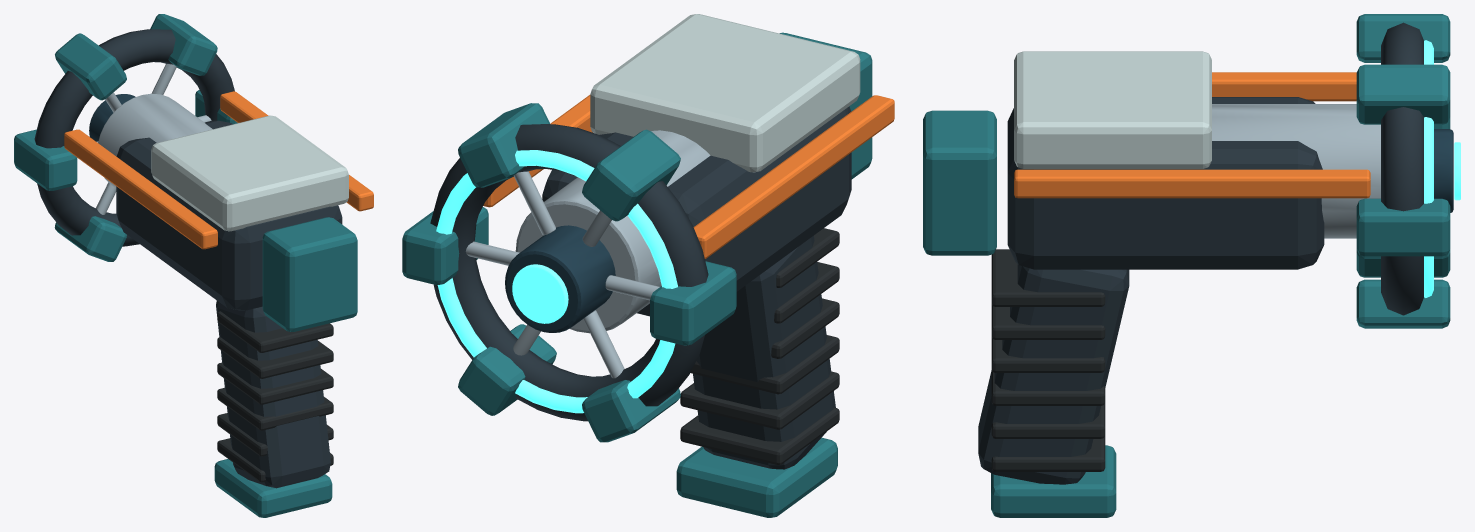
Rendered from pulse_disc.glb.
3 renders of one model, left to right at view 1: azimuth 30°, elevation 25°; view 2: azimuth 150°, elevation 25°; view 3: azimuth 270°, elevation 25°, orthographic. The views are drawn at different scales.
Visible parts, largest first — view 1: pulse_disc_mesh, Pulse_rotor_mesh; view 2: pulse_disc_mesh, Pulse_rotor_mesh; view 3: pulse_disc_mesh, Pulse_rotor_mesh.
Part boxes in pixels (bbox=[...]): pulse_disc_mesh: bbox=[64, 91, 373, 517]; Pulse_rotor_mesh: bbox=[14, 14, 237, 261]; pulse_disc_mesh: bbox=[483, 14, 894, 517]; Pulse_rotor_mesh: bbox=[402, 103, 736, 442]; pulse_disc_mesh: bbox=[923, 51, 1380, 517]; Pulse_rotor_mesh: bbox=[1356, 14, 1460, 328].
Bounding box in the file's own units: 0.237 × 0.3865 × 0.4075.
